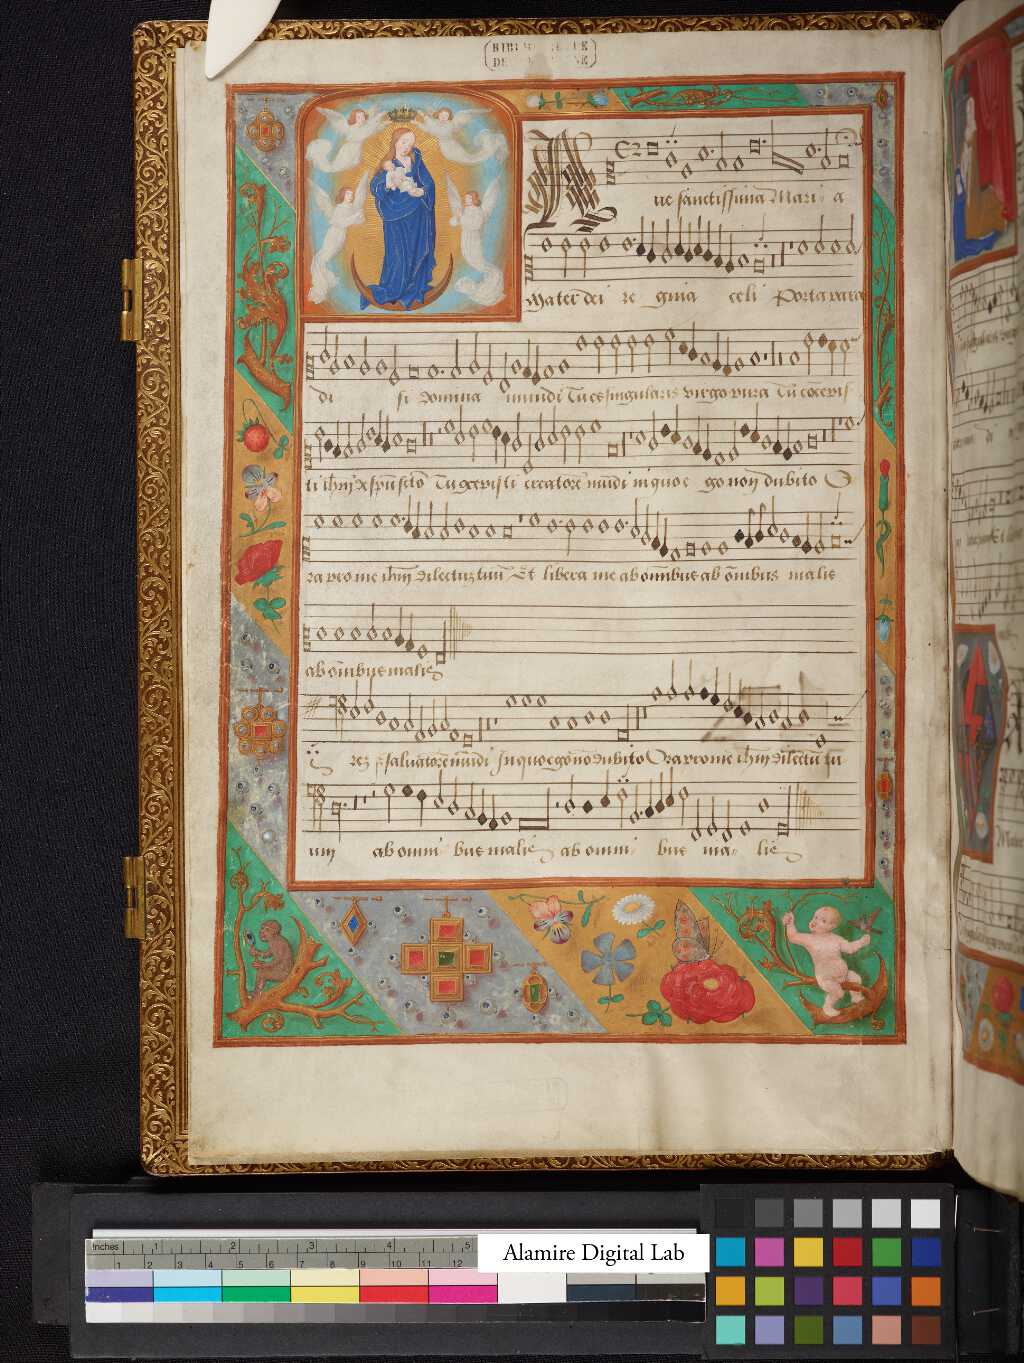barline: (444, 595, 461, 669)
c clef_9: (300, 615, 313, 659)
longa_12: (431, 610, 450, 671)
minim_8: (365, 595, 381, 647)
semibreve_11: (413, 636, 430, 664)
semibreve_8: (314, 620, 330, 647), (347, 620, 362, 648), (331, 621, 346, 648), (380, 622, 394, 645)
semiminim_10: (403, 604, 417, 659)
semiminim_9: (392, 600, 407, 654)
